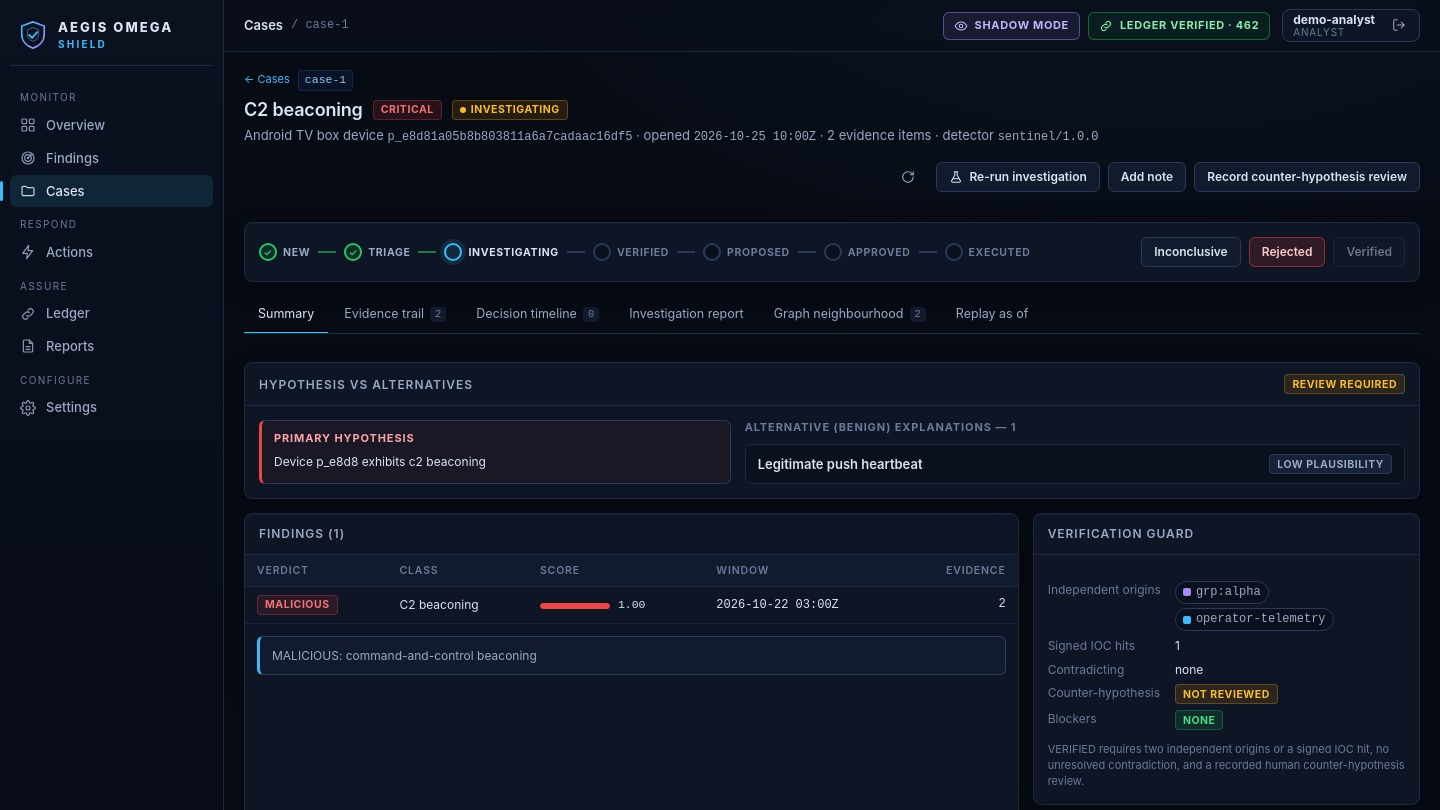
console › submits a transition with its reason and shows a refusal with failed checks
Click the button with test id "transition-REJECTED" at (1287,252), box [1249, 237, 1325, 267]
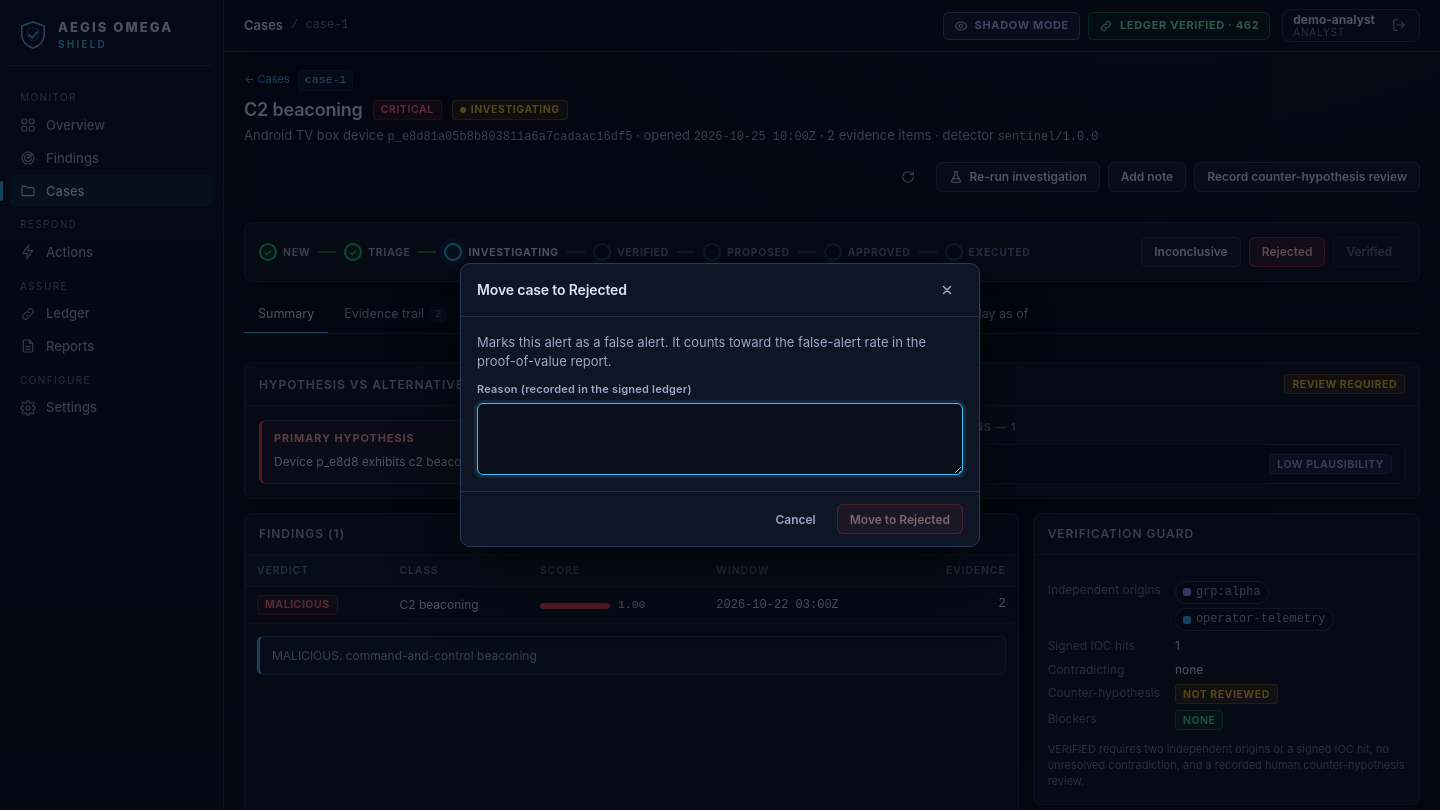
Type "benign CDN" into the text box with test id "reason-input" at (720,439), box [477, 403, 963, 475]
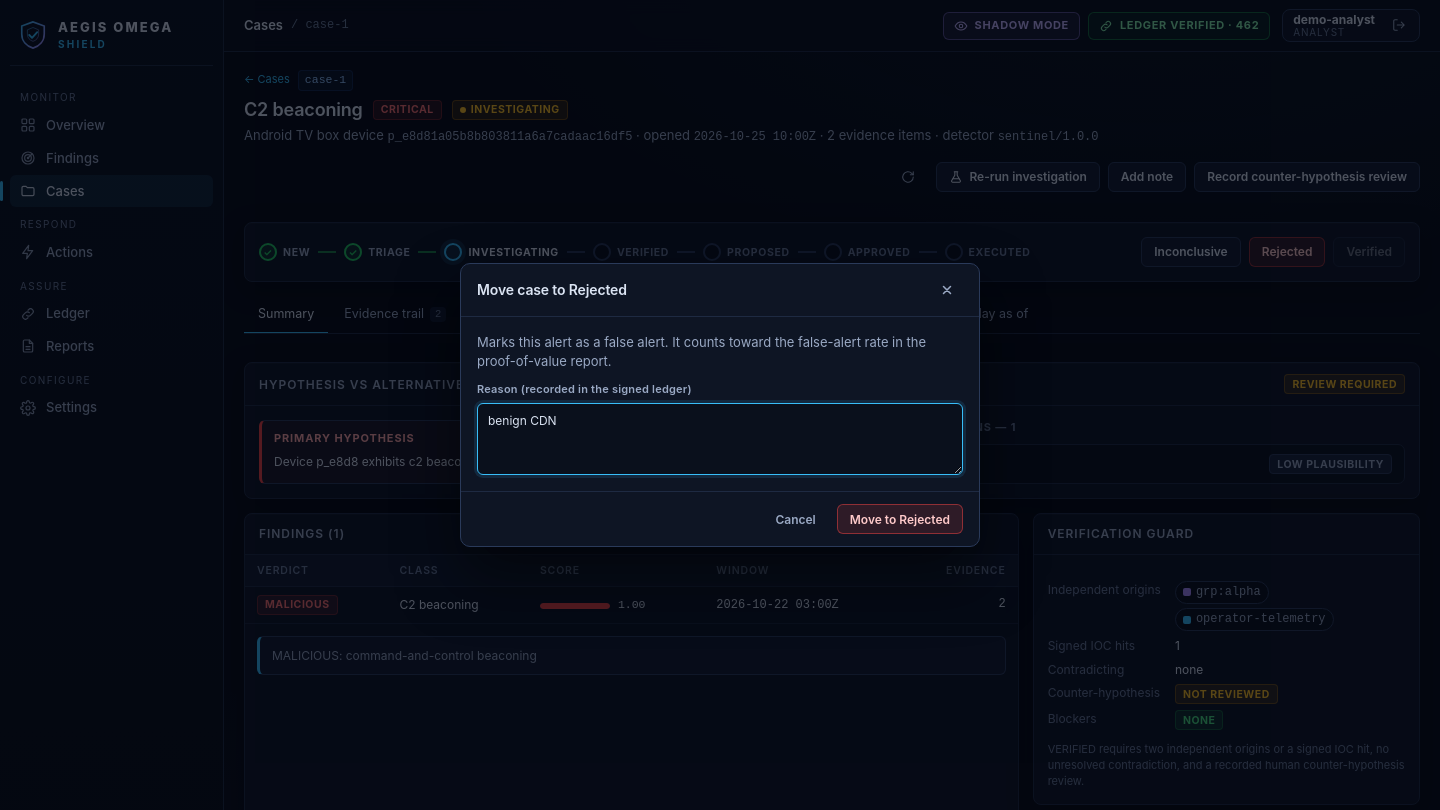
Click the button with test id "reason-confirm" at (900,519), box [837, 504, 963, 534]
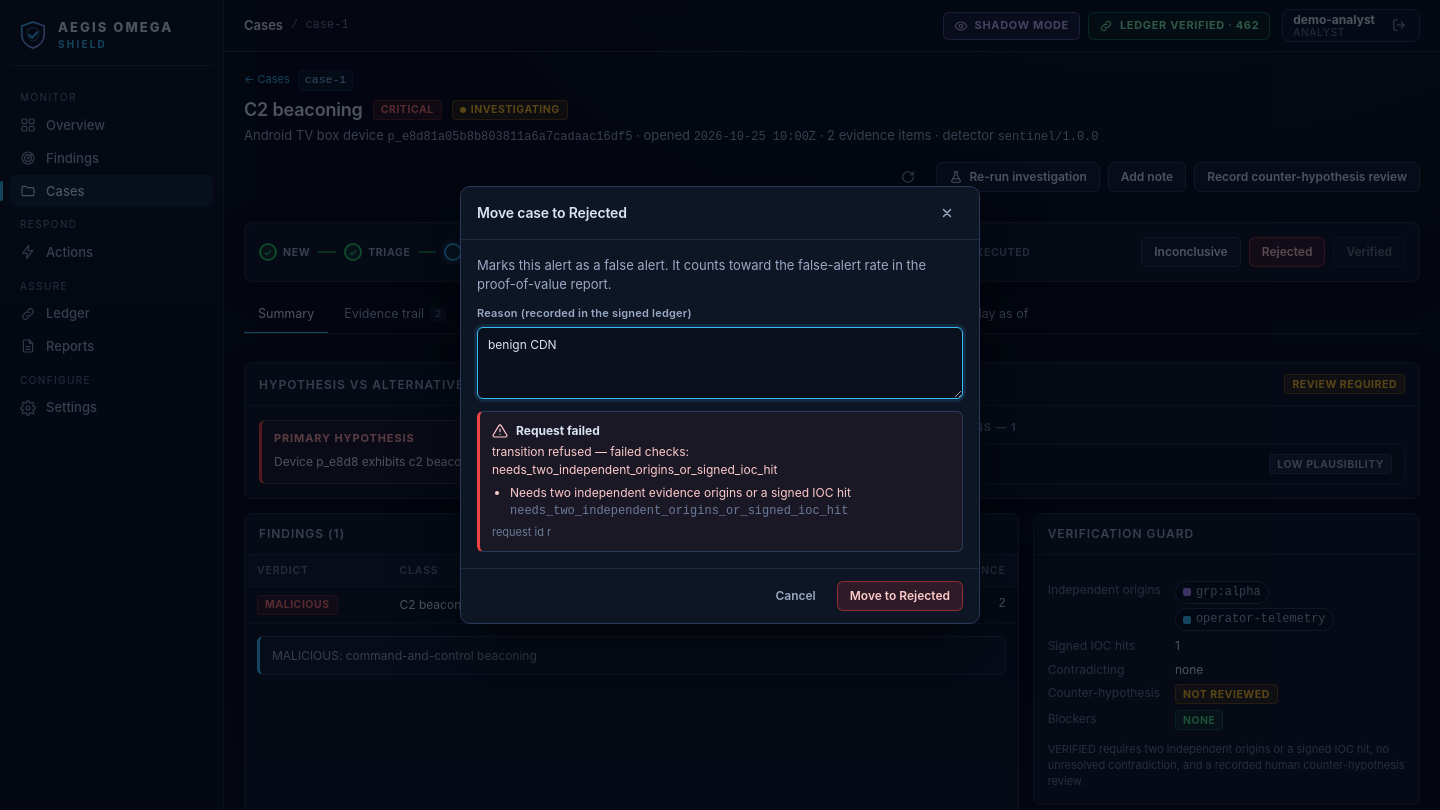
expect the list item "Needs two independent evidence origins" is shown: met, box [510, 485, 851, 500]
